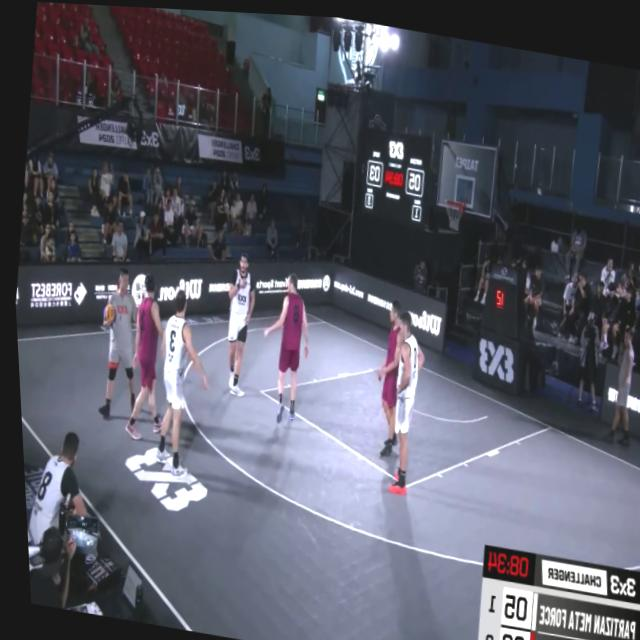ball: (97, 298, 117, 332)
hoop: (439, 189, 464, 231)
player: (140, 286, 218, 479), (110, 268, 178, 447), (372, 304, 433, 493), (248, 266, 312, 426), (360, 294, 411, 454), (208, 250, 257, 398)
